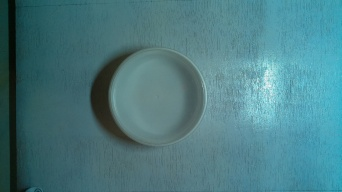f: (104, 39, 224, 160)
